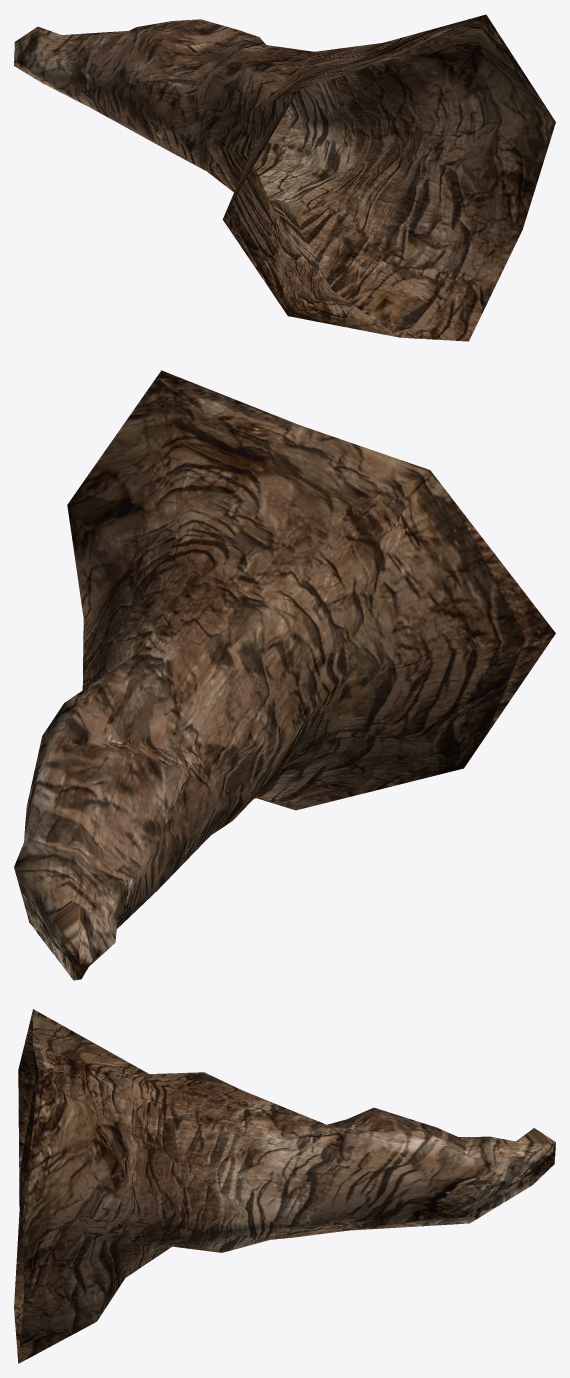
The model's file is MEP_DesertCliff_17.fbx.
3 renders of one model, top to bottom at view 1: azimuth 30°, elevation 25°; view 2: azimuth 150°, elevation 25°; view 3: azimuth 270°, elevation 25°, orthographic. The views are drawn at different scales.
Visible parts, largest first — view 1: MEP_Desert_Cliff_17; view 2: MEP_Desert_Cliff_17; view 3: MEP_Desert_Cliff_17.
Boxes of the visible parts, <box> form: MEP_Desert_Cliff_17: <box>14,14,555,341</box>; MEP_Desert_Cliff_17: <box>14,370,555,980</box>; MEP_Desert_Cliff_17: <box>14,1009,555,1363</box>.
Size of the model in its own units: 14.57 by 12.96 by 20.92.
